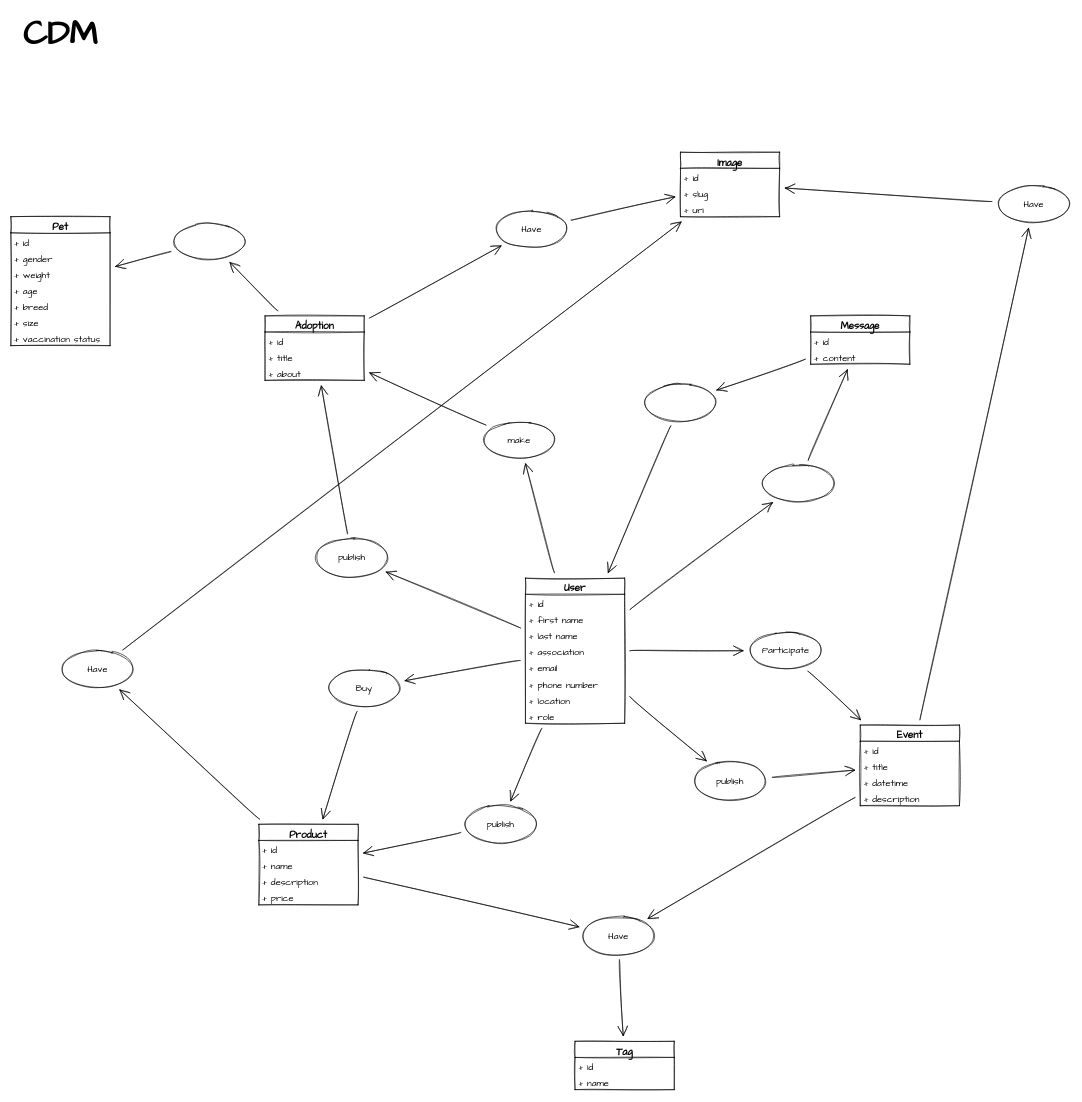
Image size: 1082x1102. Some labels were removed from this diagram. The centre of each missing label's shape, as x and y in pixels:
Of: (x=208, y=241)
send: (x=797, y=483)
sent to: (x=680, y=402)
